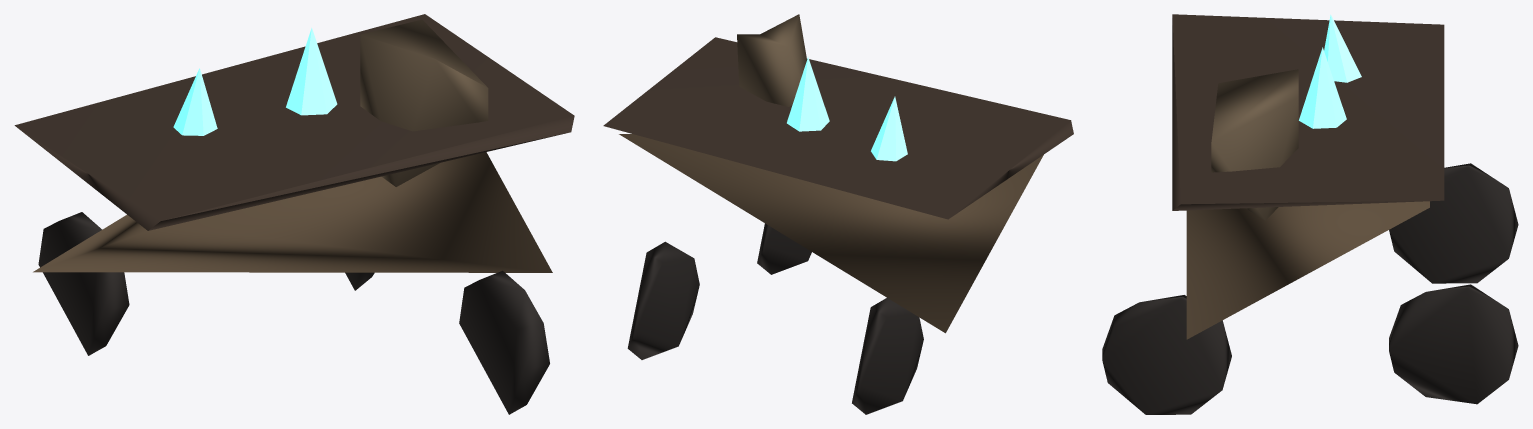
Rendered from ore_cart_lod2.glb.
The picture shows the model from 3 angles, left to right: view 1: azimuth 30°, elevation 25°; view 2: azimuth 150°, elevation 25°; view 3: azimuth 270°, elevation 25°; orthographic projection. The views are drawn at different scales.
Parts seen in each view (by area): view 1: prop.ore_cart; view 2: prop.ore_cart; view 3: prop.ore_cart.
Part boxes in pixels (<box>): prop.ore_cart: <box>14,14,574,414</box>; prop.ore_cart: <box>603,14,1073,414</box>; prop.ore_cart: <box>1102,14,1518,414</box>.
Bounding box in the file's own units: 1.14 × 0.8702 × 1.04.
